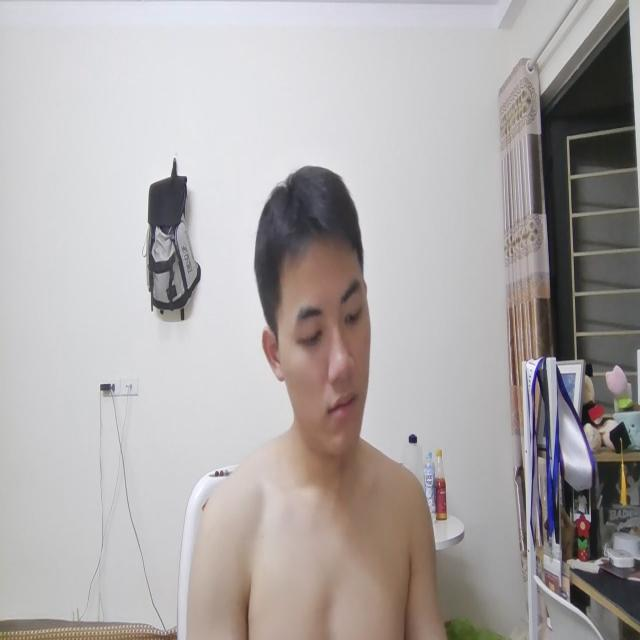student: (194, 162, 408, 640)
